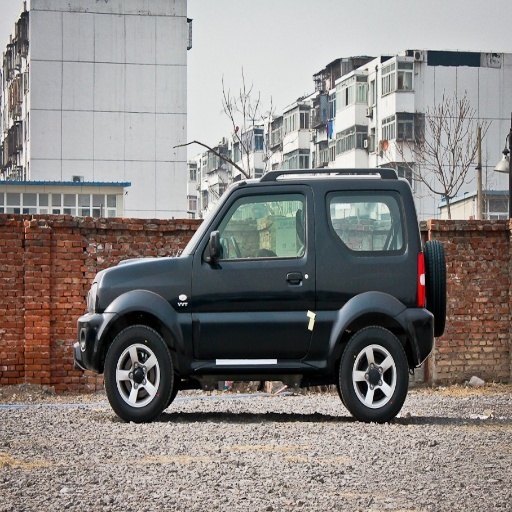trunk: (312, 256, 405, 348)
